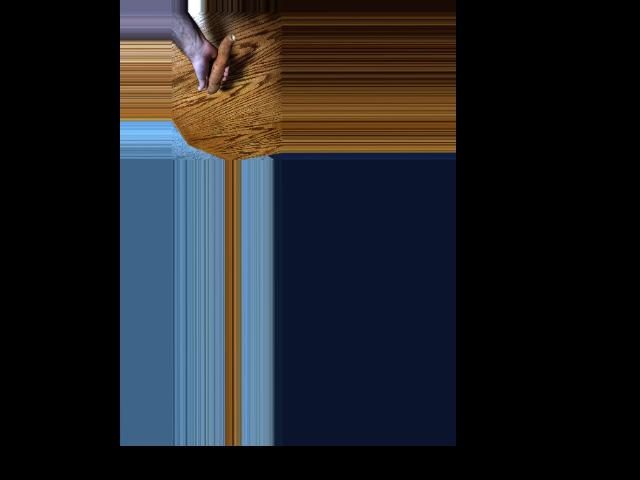sweet_potato: (205, 32, 235, 94)
